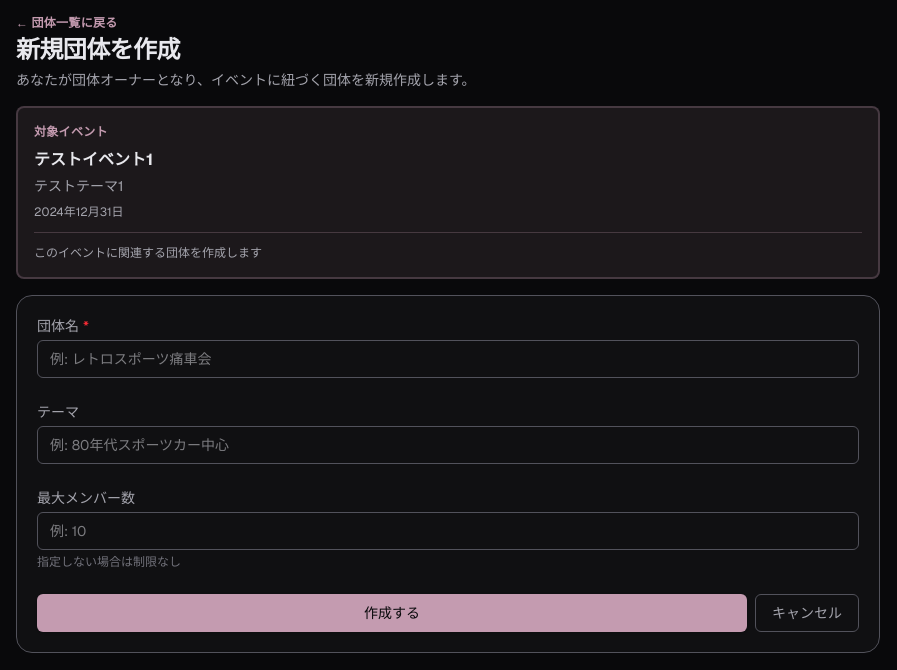
it: NewGroupPage › フォーム画面（eventId指定時） › 送信中はボタンが無効になる
The width and height of the screenshot is (897, 670).
Type "新しい団体" into the field with placeholder "例: レトロスポーツ痛車会" at (448, 359), box [37,340,859,378]
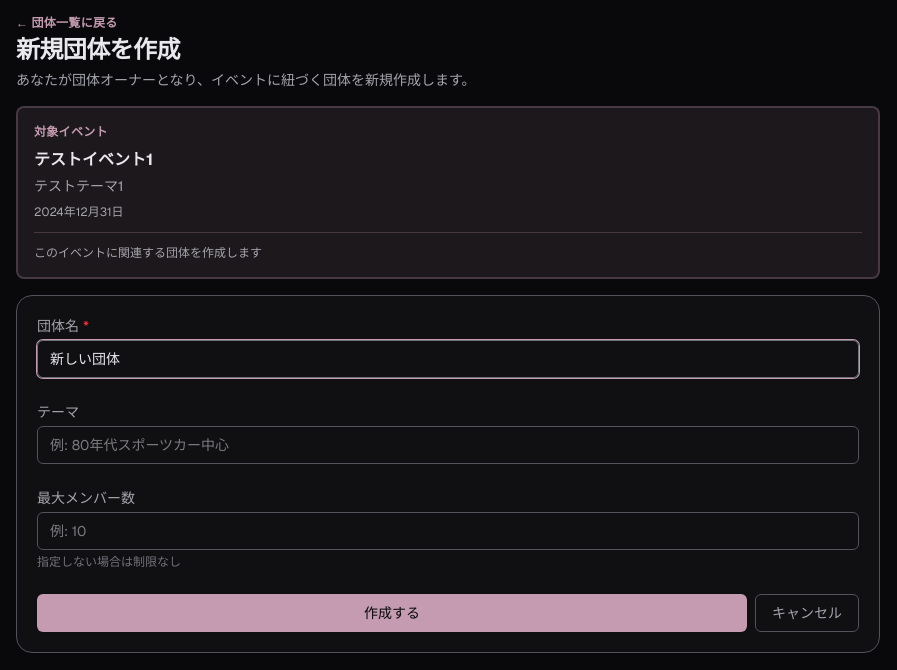
Click the button "作成する" at (392, 613), box [37,594,747,632]
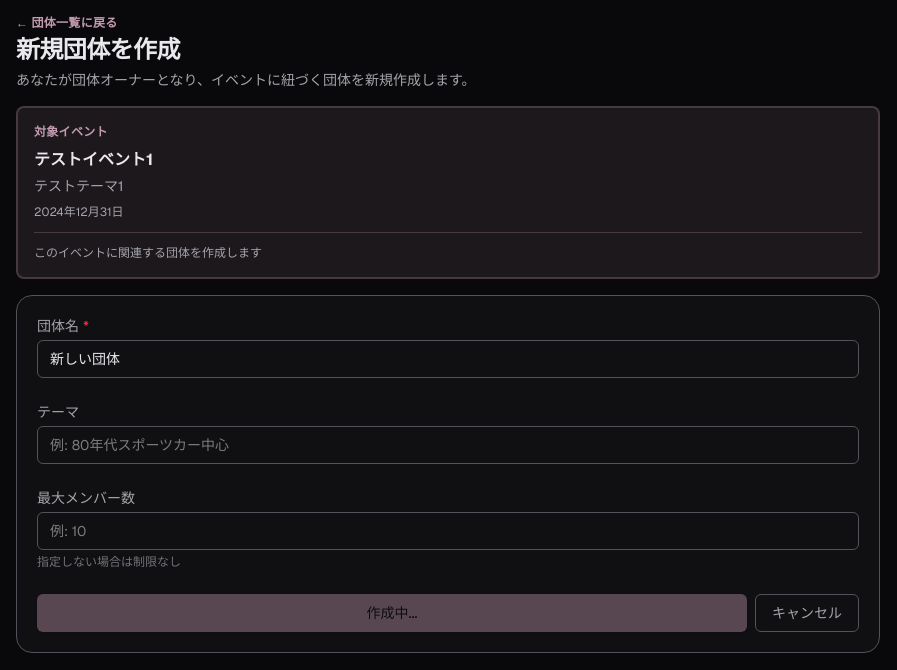
Expected: the button "作成中..." is disabled, [37,594,747,632]
